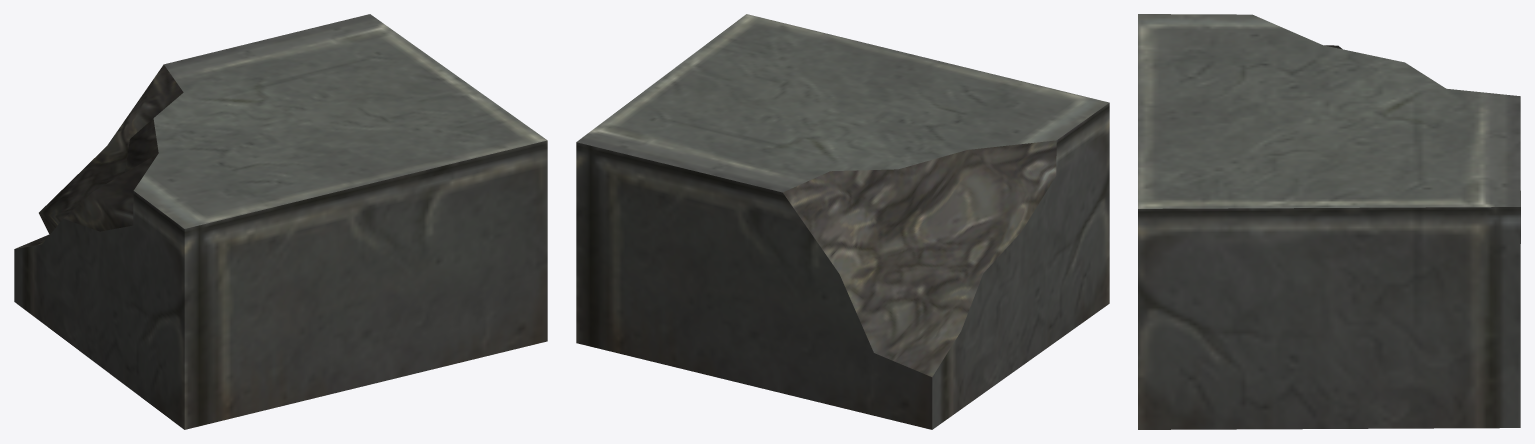
The model's file is F_shizhu007.fbx.
3 views of the same model, side by side, from view 1: azimuth 30°, elevation 25°; view 2: azimuth 150°, elevation 25°; view 3: azimuth 270°, elevation 25° (orthographic). The views are drawn at different scales.
Parts seen in each view (by area): view 1: F_shizhu007; view 2: F_shizhu007; view 3: F_shizhu007.
Boxes of the visible parts, x1,y1,x2,y2 form: F_shizhu007: (14, 14, 547, 429); F_shizhu007: (576, 14, 1109, 429); F_shizhu007: (1138, 14, 1520, 429).
Bounding box in the file's own units: 72.9 × 38.51 × 60.42.
